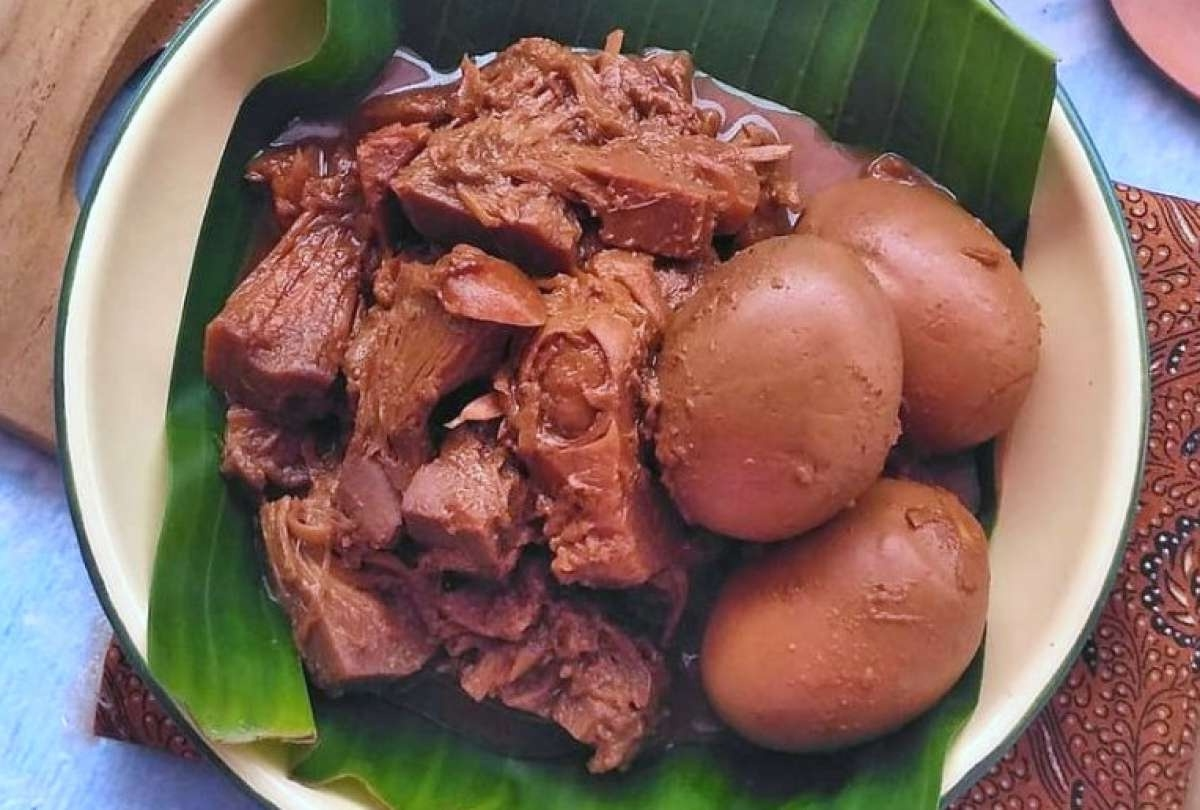gudeg: (200, 31, 1050, 778)
